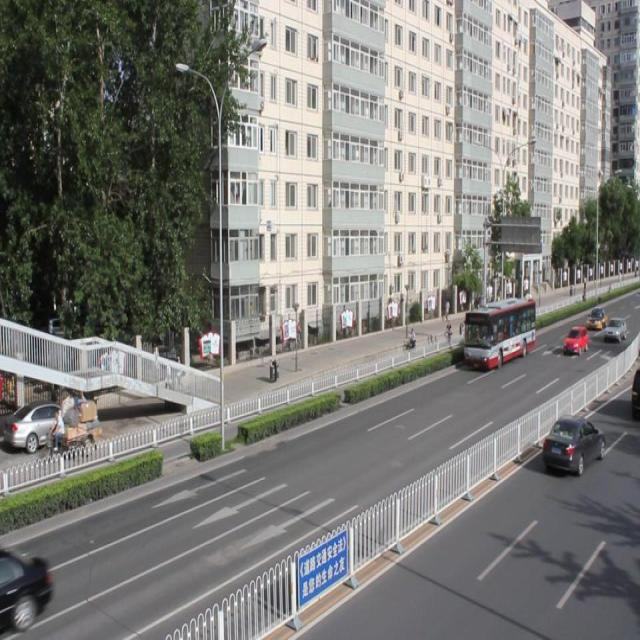car: (1, 547, 53, 631), (541, 410, 603, 475)
van: (464, 294, 534, 367)
